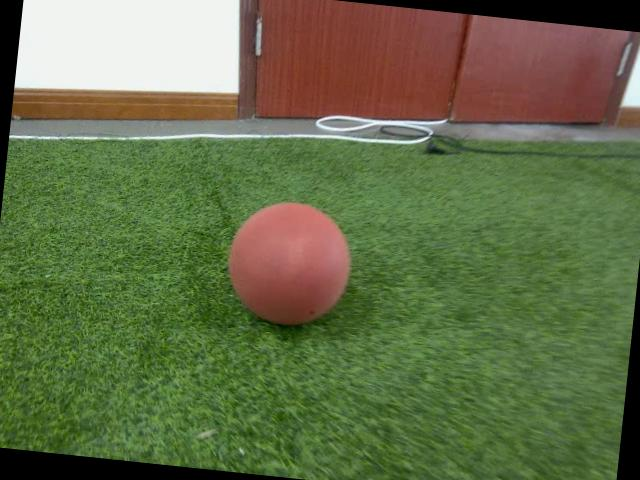red_ball: (220, 197, 354, 334)
